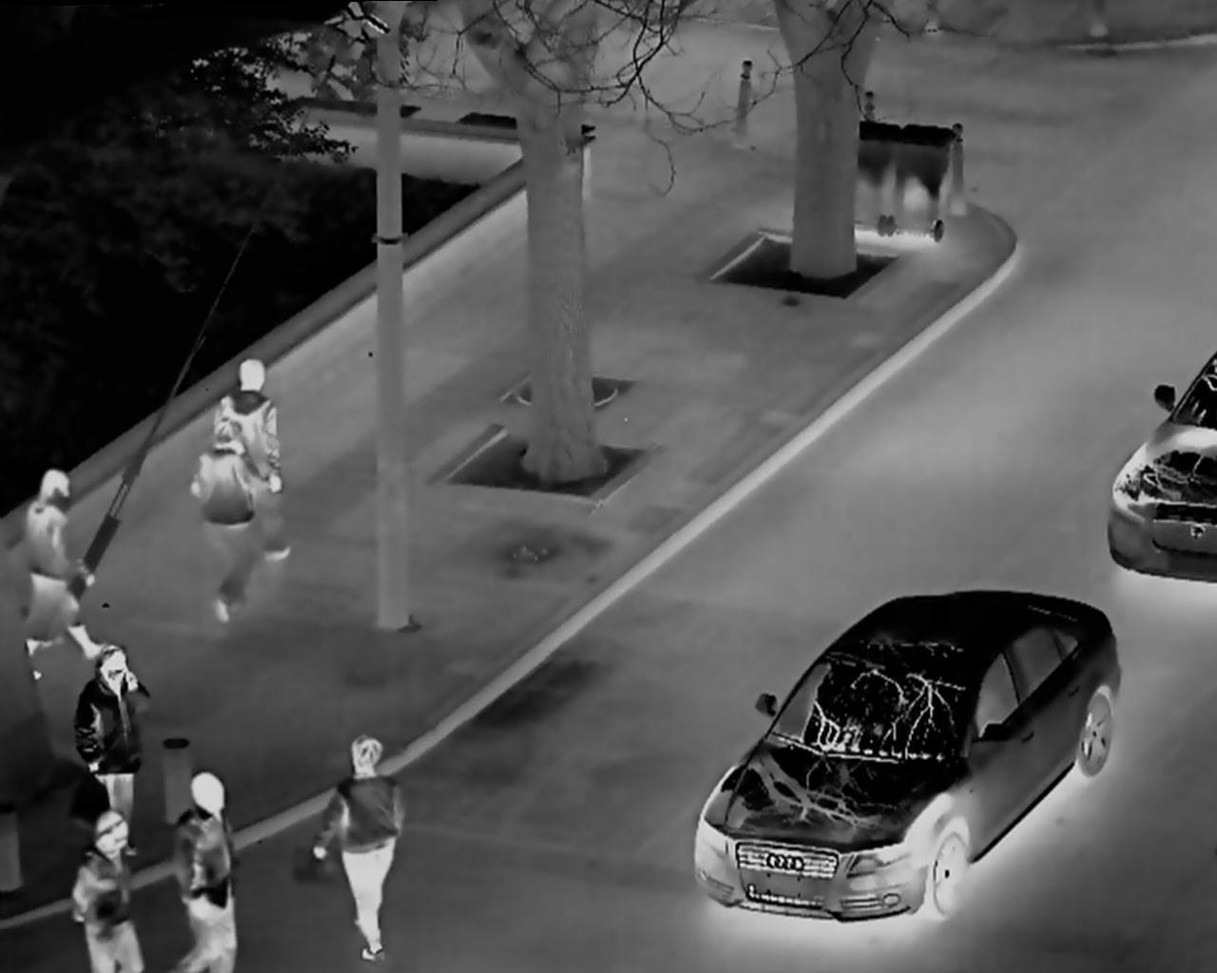person: (157, 733, 253, 973), (319, 731, 422, 951), (16, 459, 114, 680), (212, 337, 294, 564), (69, 640, 157, 844), (60, 802, 161, 973), (183, 425, 260, 626)
